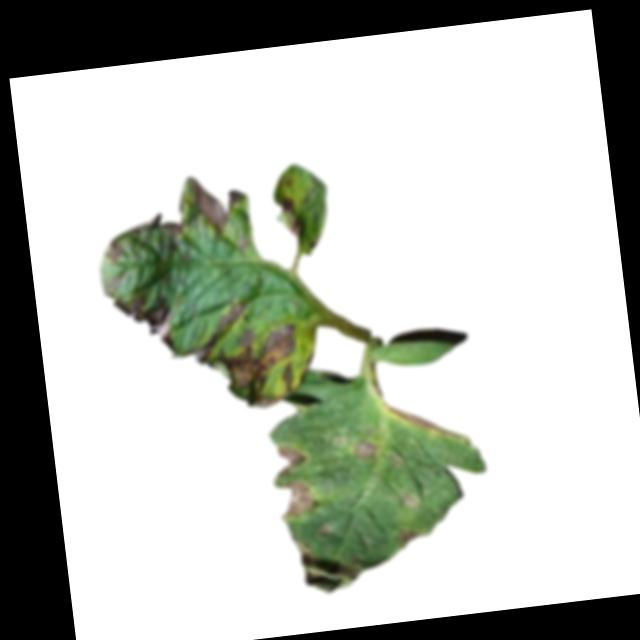Early_blight: (175, 296, 309, 417), (110, 287, 175, 350), (193, 174, 252, 239), (300, 549, 361, 597), (387, 399, 451, 444), (130, 210, 187, 245), (278, 477, 318, 523), (280, 195, 307, 242), (274, 444, 305, 479), (104, 239, 127, 267), (398, 527, 425, 550), (355, 437, 377, 461)
